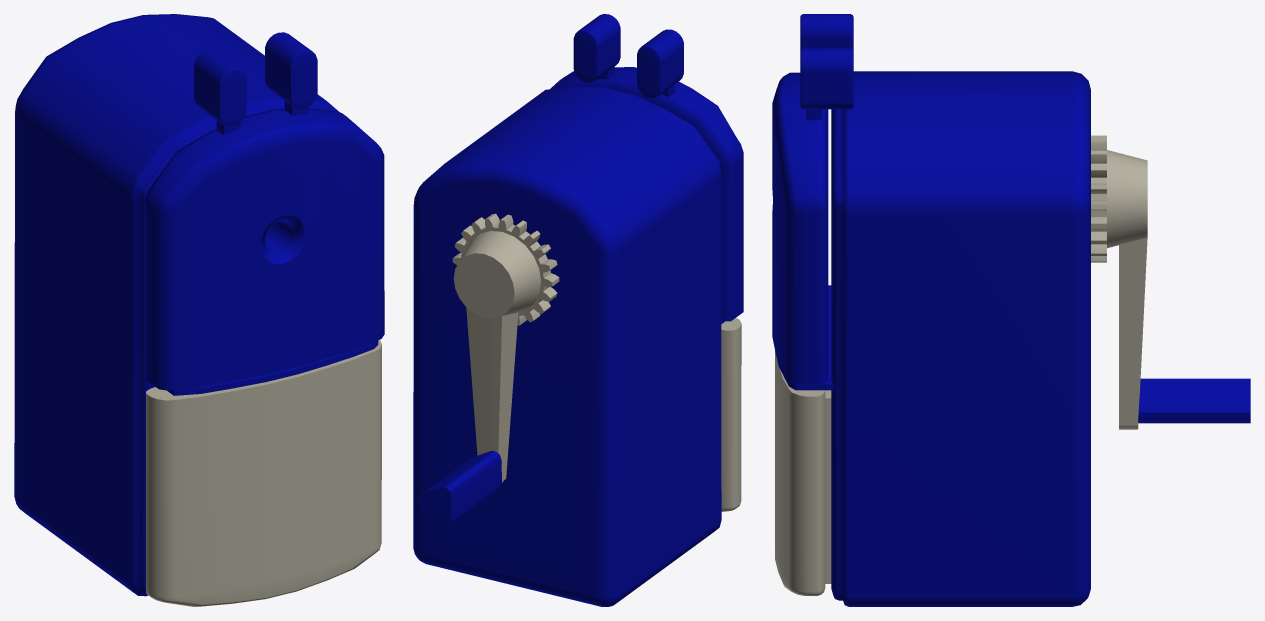
File: E_kezuri.fbx
The picture shows the model from 3 angles, left to right: view 1: azimuth 30°, elevation 25°; view 2: azimuth 150°, elevation 25°; view 3: azimuth 270°, elevation 25°; orthographic projection. The views are drawn at different scales.
Visible parts, largest first — view 1: E_kezuri; view 2: E_kezuri; view 3: E_kezuri.
Part boxes in pixels (<box>): E_kezuri: <box>14,14,384,606</box>; E_kezuri: <box>413,14,743,606</box>; E_kezuri: <box>772,14,1250,606</box>.
Bounding box in the file's own units: 100 × 220 × 182.
2 materials, 2 textured.
